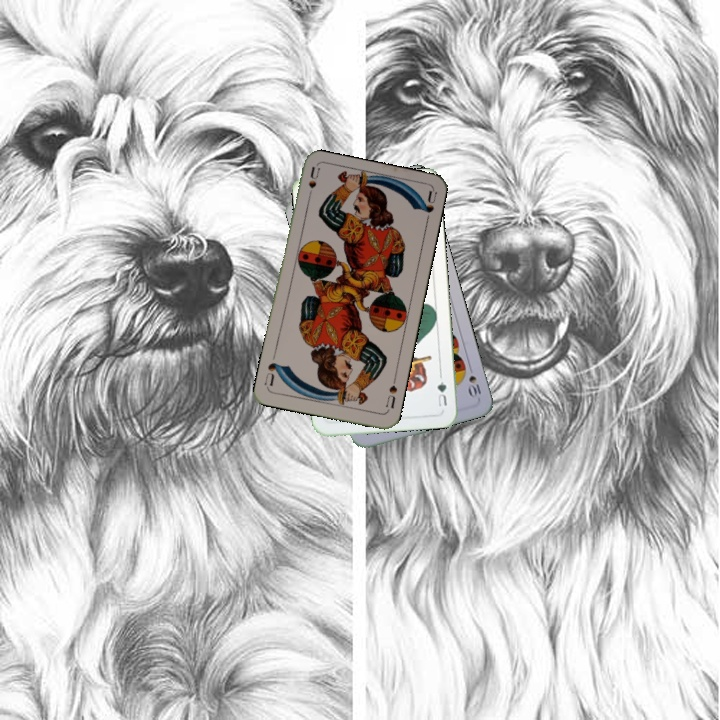GU: (433, 377, 450, 409)
S10: (464, 361, 484, 400)
SU: (303, 164, 322, 205), (382, 373, 400, 414)
